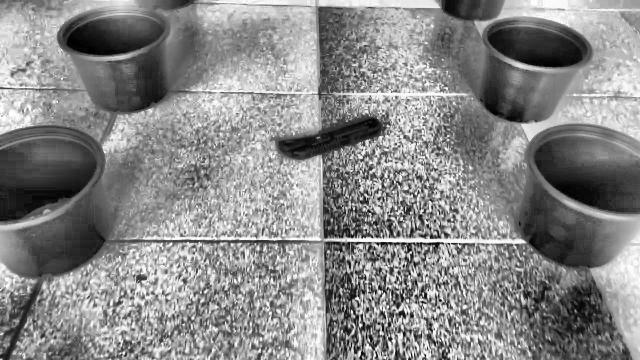pot: (517, 124, 640, 268), (0, 126, 112, 279), (56, 6, 171, 114), (478, 17, 594, 124)
